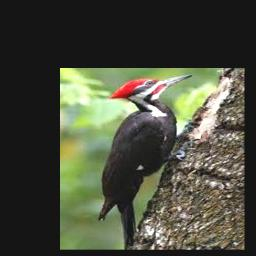Woodpecker: (99, 74, 194, 249)
